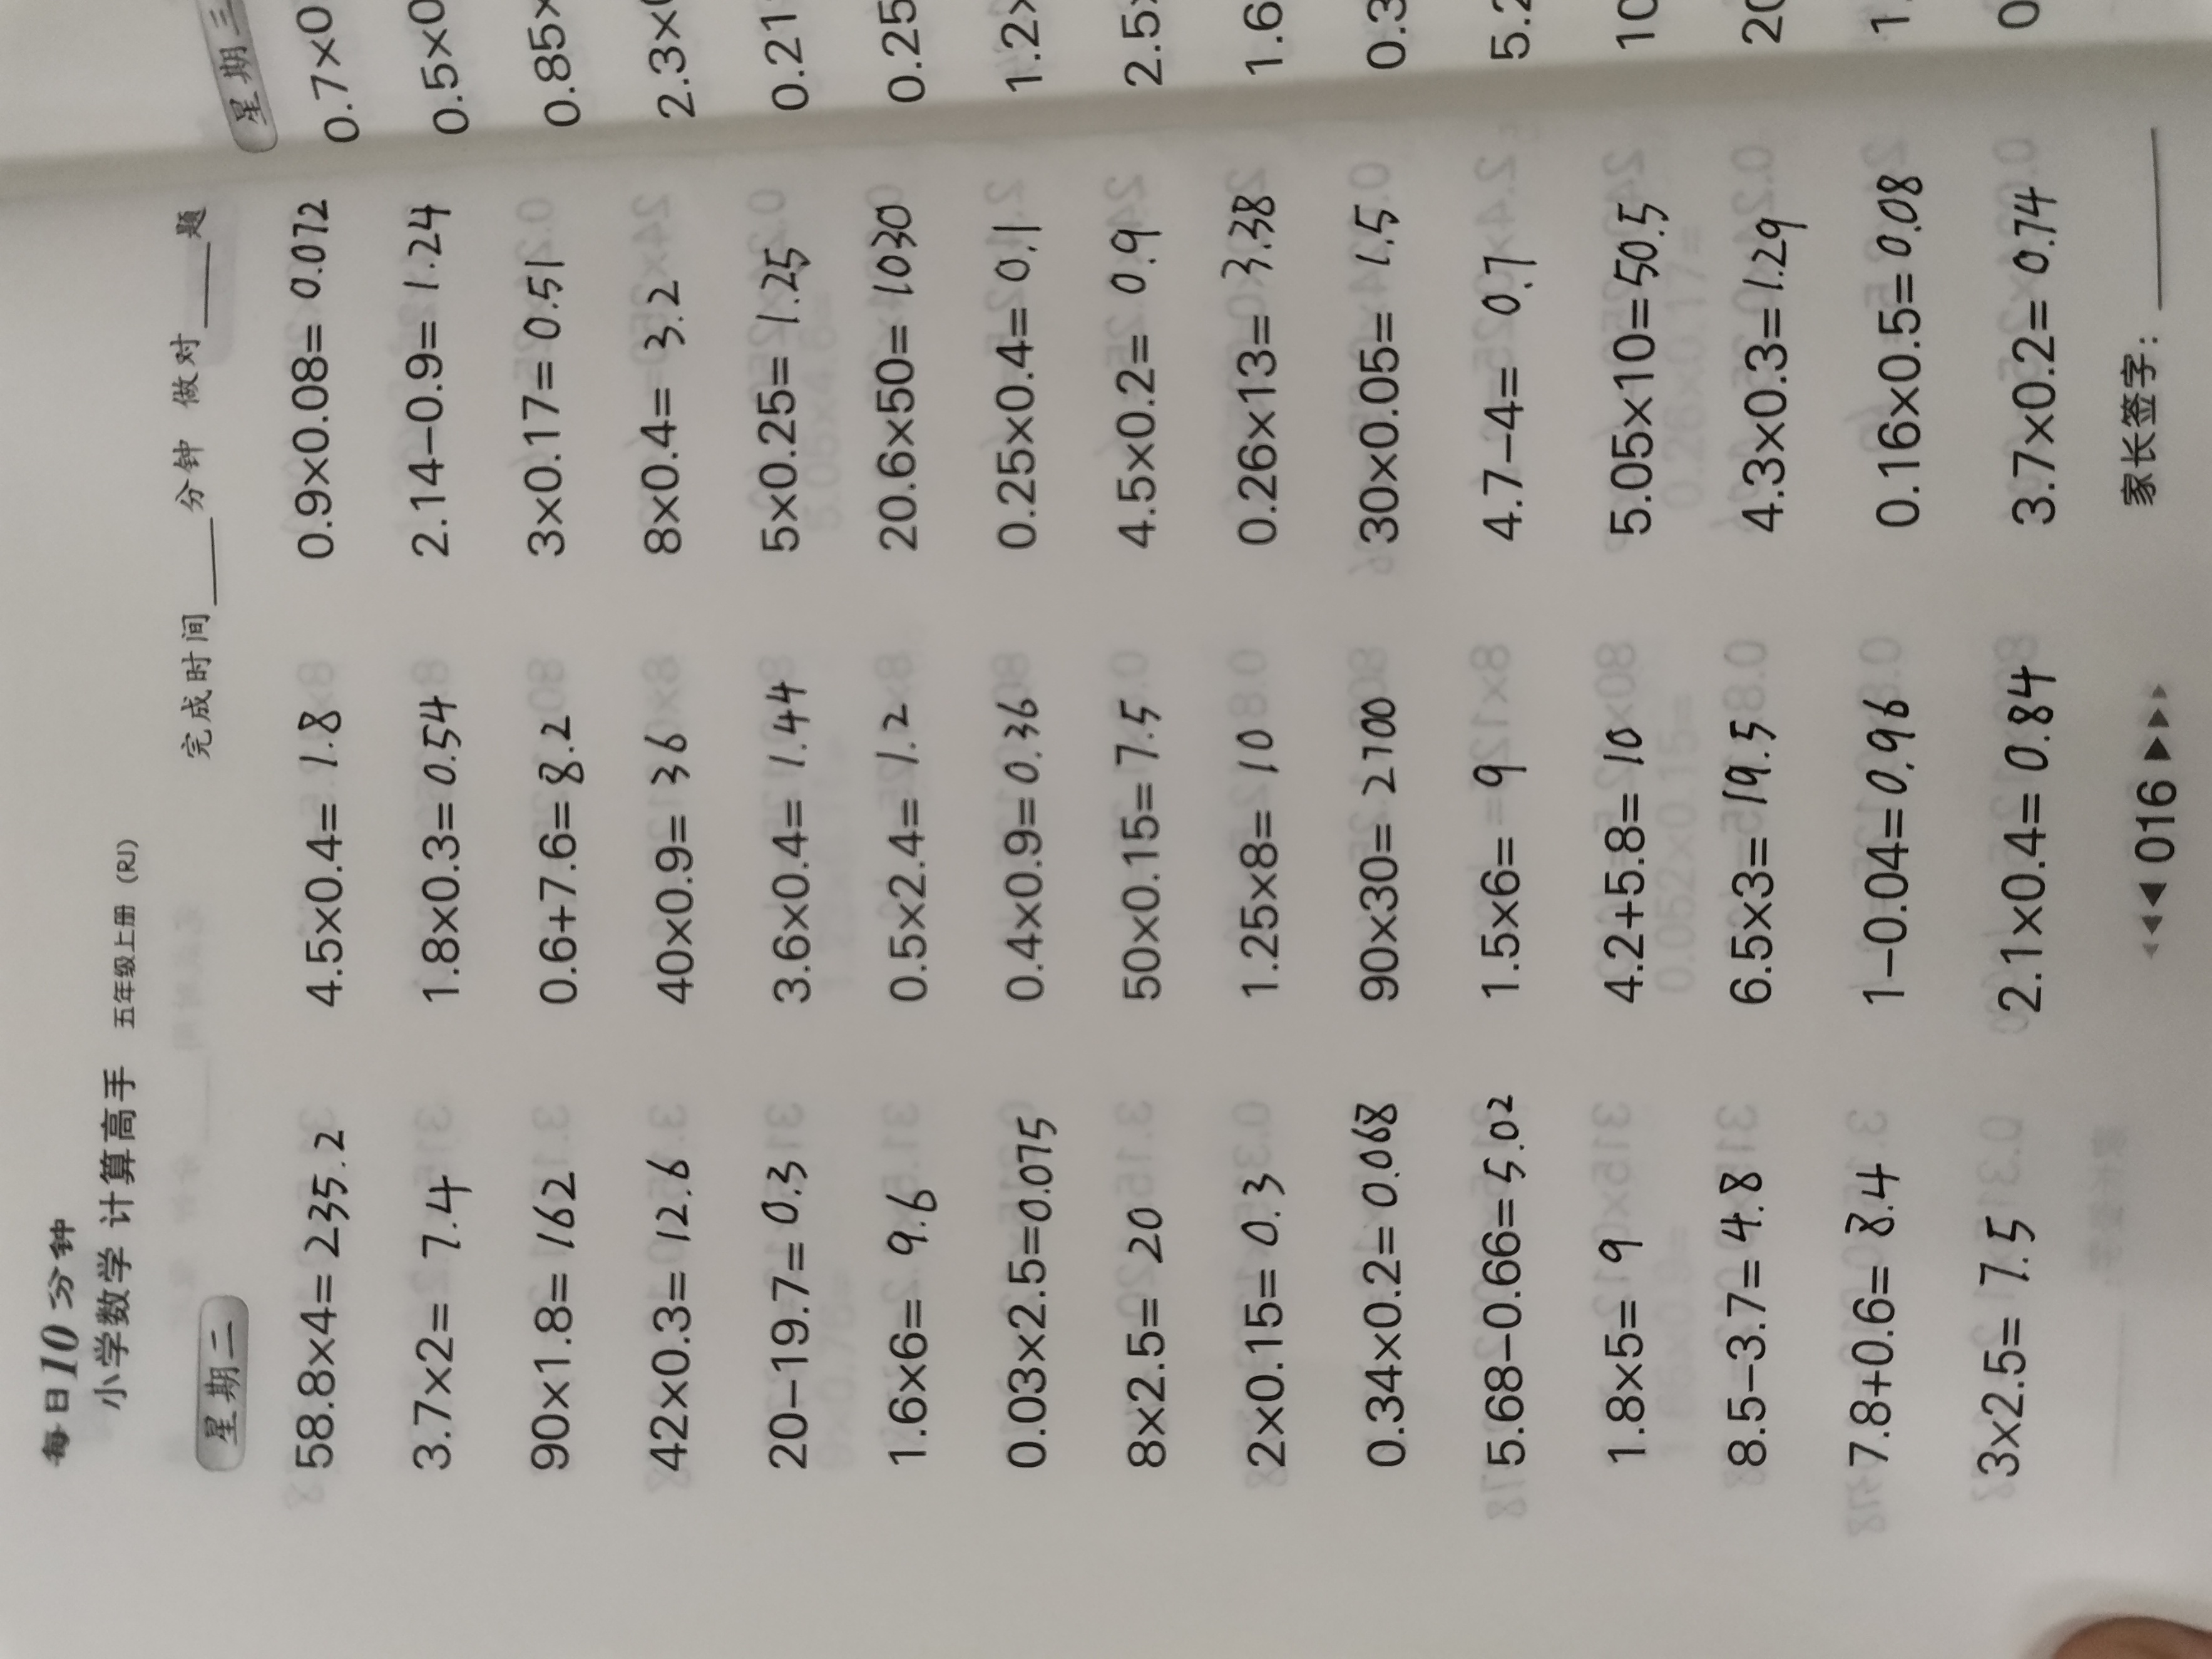equation: (1465, 1187, 1979, 1260), (214, 1094, 782, 1159), (1472, 1288, 1959, 1363), (1453, 1000, 1979, 1068), (1453, 908, 1991, 974), (1451, 814, 1933, 887), (831, 1488, 1350, 1554), (1442, 282, 1959, 347), (232, 737, 745, 802), (1482, 1488, 1979, 1553), (1470, 1391, 2020, 1448), (843, 1378, 1308, 1446), (226, 296, 676, 366), (228, 1007, 766, 1065), (1454, 641, 1972, 701), (221, 1272, 705, 1335), (1460, 551, 1918, 617), (1453, 1094, 1907, 1161), (853, 556, 1329, 619), (221, 213, 735, 270), (855, 1004, 1322, 1066), (1454, 734, 1947, 793), (850, 1281, 1278, 1347), (244, 1371, 691, 1434), (855, 908, 1268, 974), (244, 648, 662, 713), (233, 472, 688, 532), (1453, 209, 1961, 261), (233, 913, 669, 974), (216, 1471, 627, 1535), (860, 1185, 1273, 1248), (855, 734, 1303, 791), (860, 643, 1303, 701), (228, 558, 678, 613), (232, 385, 662, 443), (846, 1094, 1251, 1155), (855, 826, 1296, 882), (1440, 378, 1897, 430), (862, 298, 1299, 352), (857, 390, 1280, 444), (853, 474, 1256, 528), (850, 216, 1289, 265), (1442, 471, 1851, 523), (214, 1187, 610, 1241), (235, 833, 627, 884)
